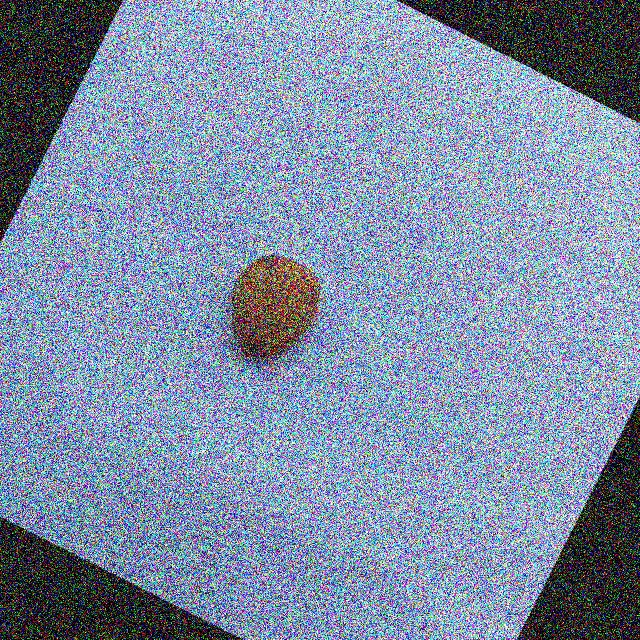grade1: (199, 233, 345, 387)
